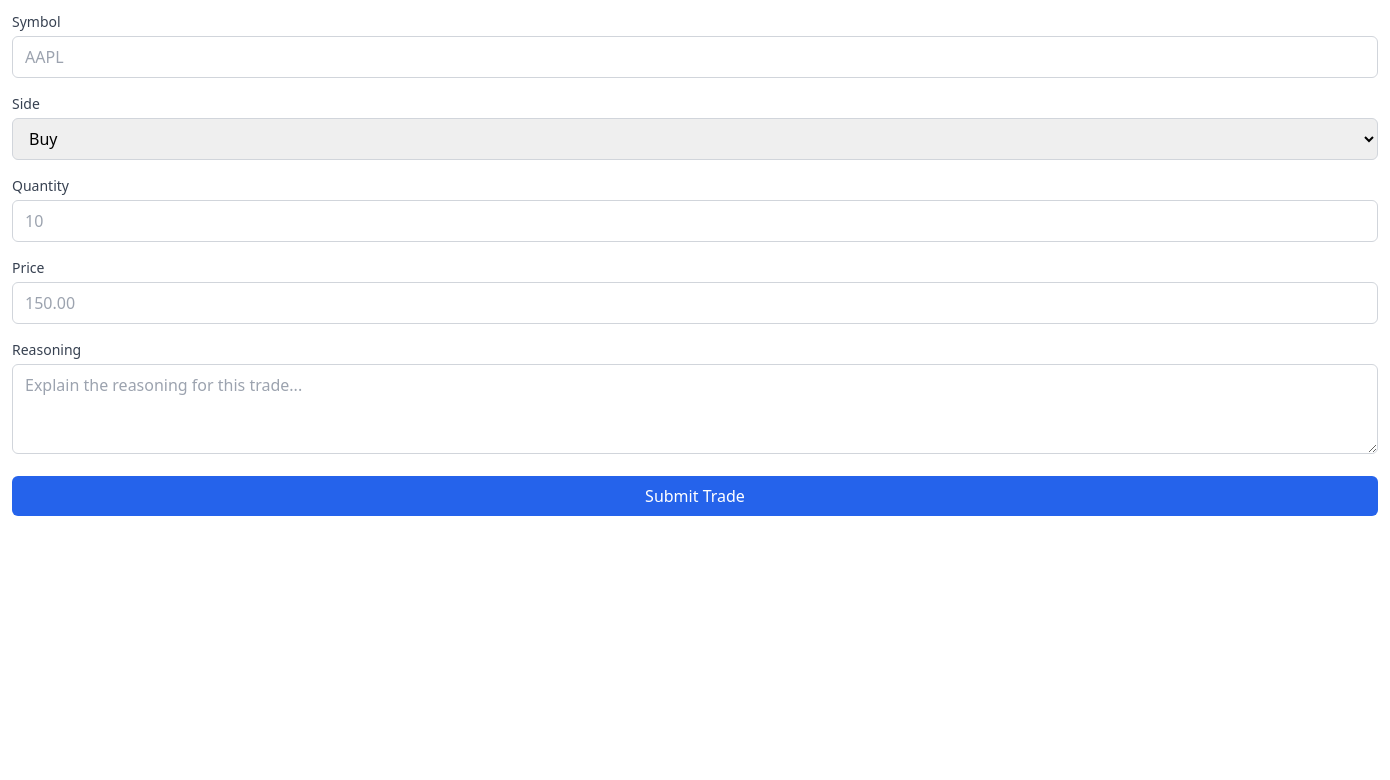
Test: TradeForm › validates required fields
Click the button "Submit Trade" at (695, 496), box 12,476 -> 1378,516
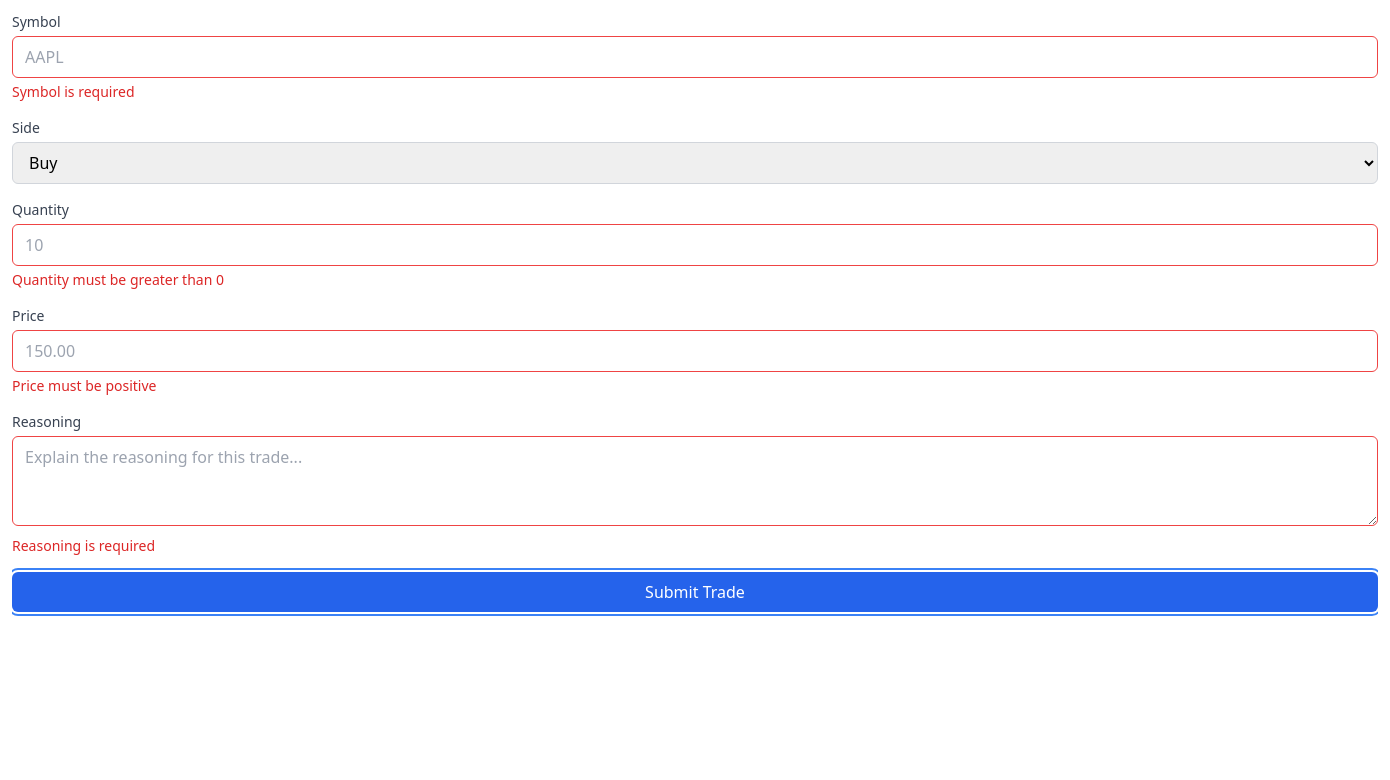
Now the text "Symbol is required" is shown, box 12,82 -> 134,101
Now the text "Quantity must be greater than 0" is shown, box 12,270 -> 224,289
